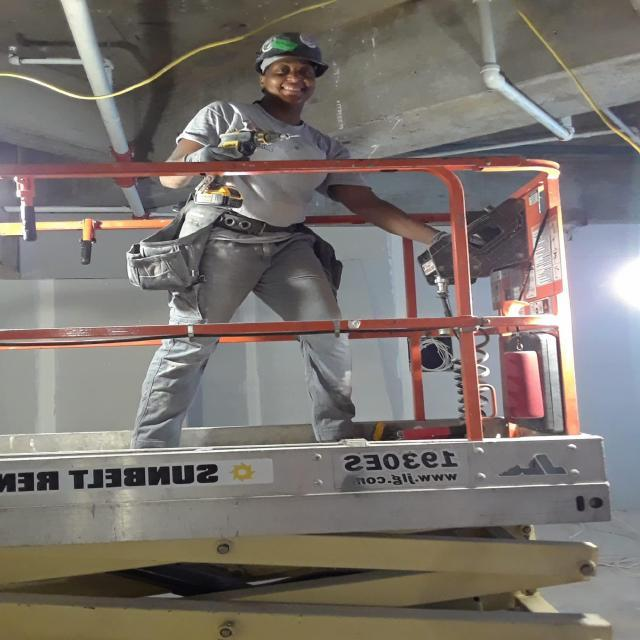safety_helmet: (247, 27, 332, 70)
